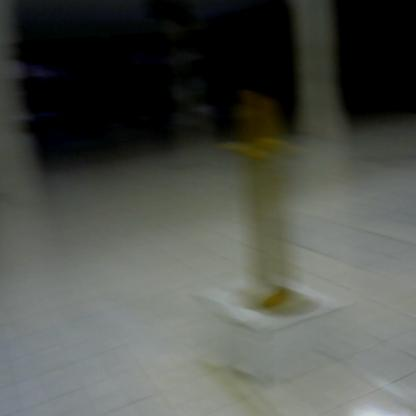pole: (218, 80, 314, 325)
